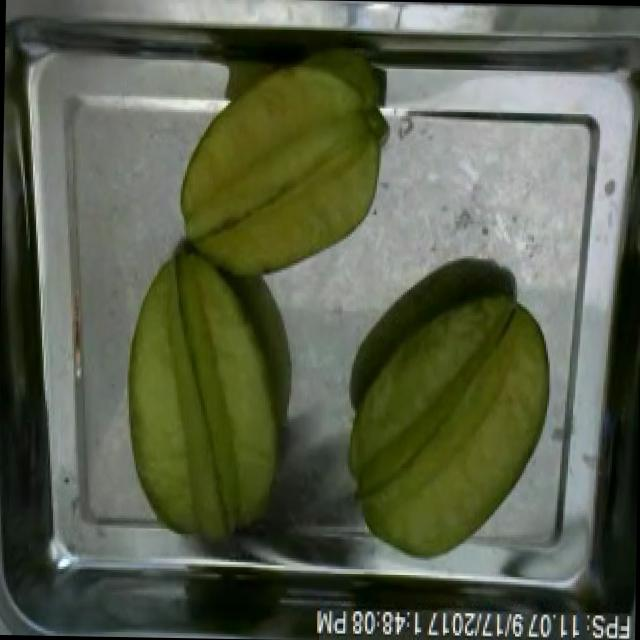fruit: (334, 270, 565, 572), (110, 232, 300, 555), (164, 40, 398, 286)
